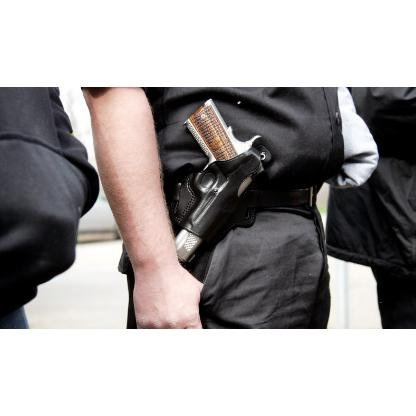gun: (146, 96, 270, 264)
